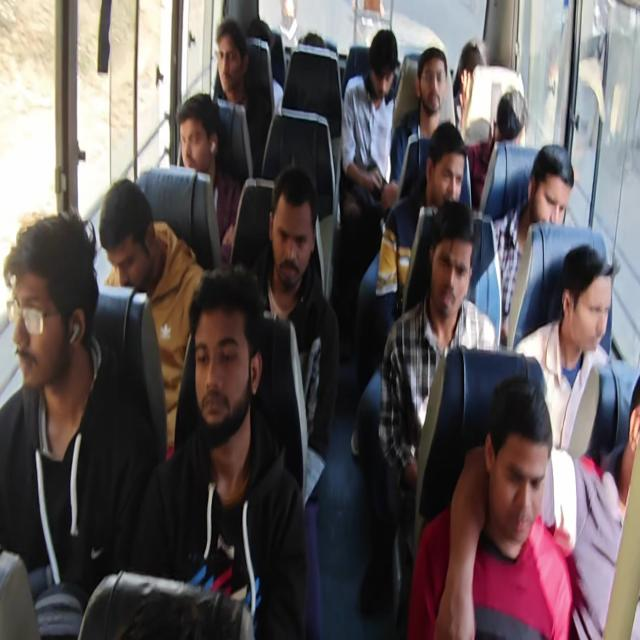person: (1, 6, 638, 638), (126, 264, 308, 638), (0, 208, 156, 637), (407, 374, 577, 639), (351, 120, 468, 458), (378, 199, 498, 496), (98, 178, 206, 458), (253, 166, 340, 507), (514, 243, 620, 460), (375, 121, 468, 329), (489, 143, 574, 343), (339, 28, 400, 224), (176, 92, 242, 264), (389, 46, 454, 196), (211, 18, 273, 175), (465, 86, 527, 208), (452, 38, 488, 136)
